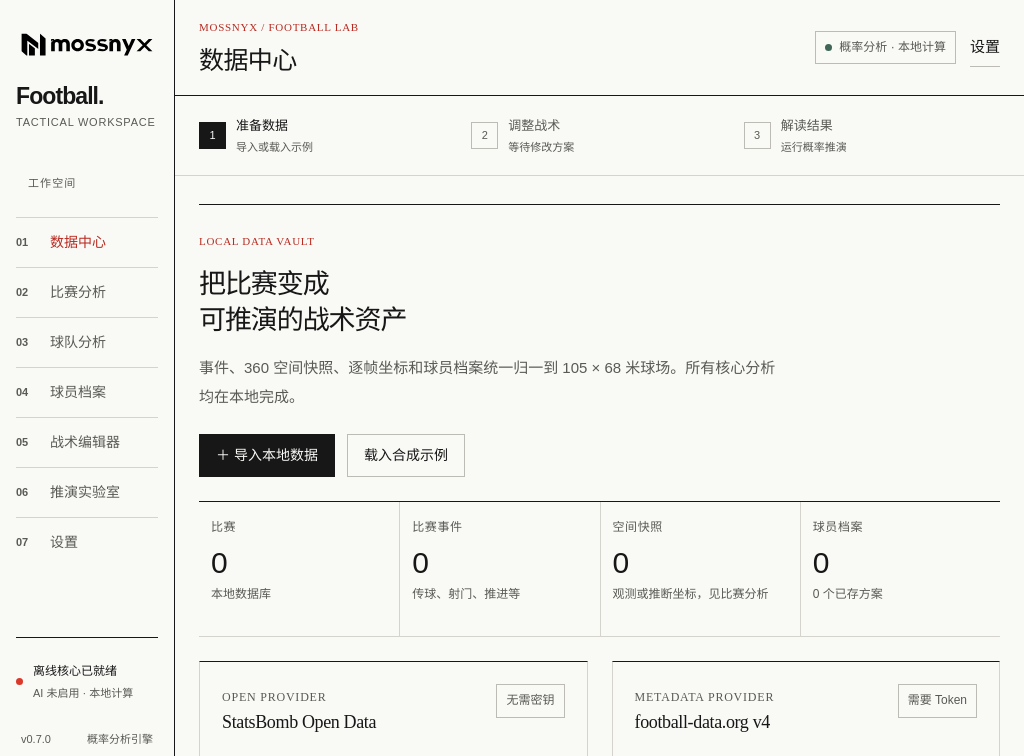
Test: 应用工作流回归 › 方案名称的连续键入在失焦后可一次恢复
Click the button "05 战术编辑器" at (87, 442), box [16,417,158,467]
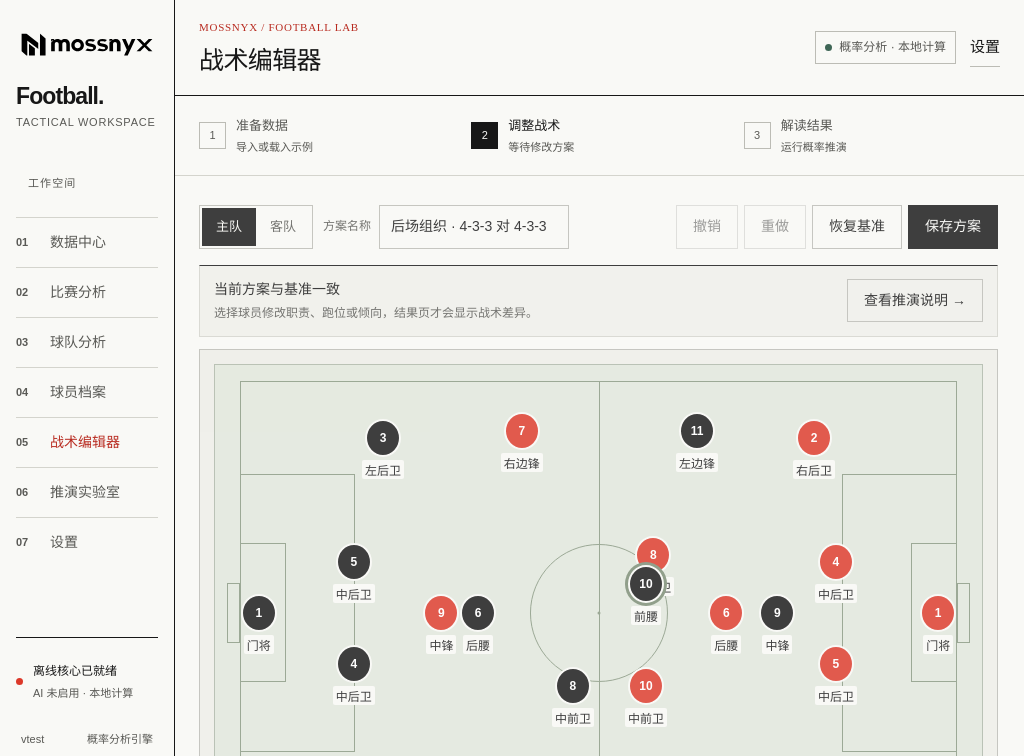
Replace the text in the field labelled "方案名称" with "边路" at (474, 227), box [379,205,569,248]
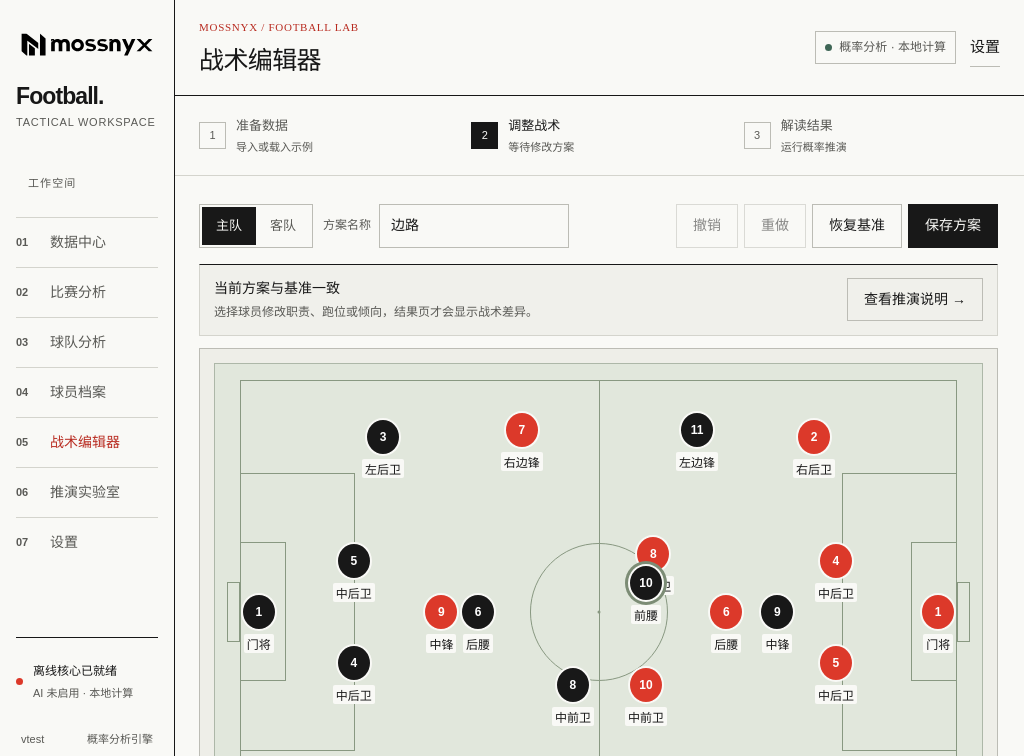
Replace the text in the field labelled "方案名称" with "边路超载试验" at (474, 226), box [379,204,569,248]
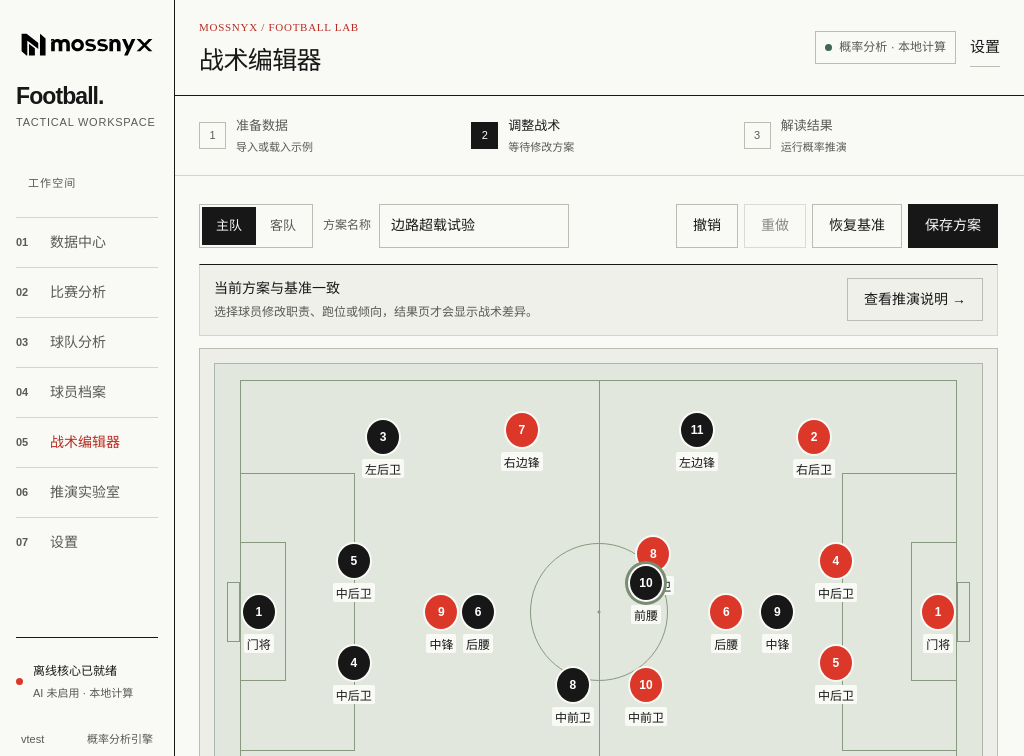
Click the button "撤销" at (707, 226), box [676,204,738,248]
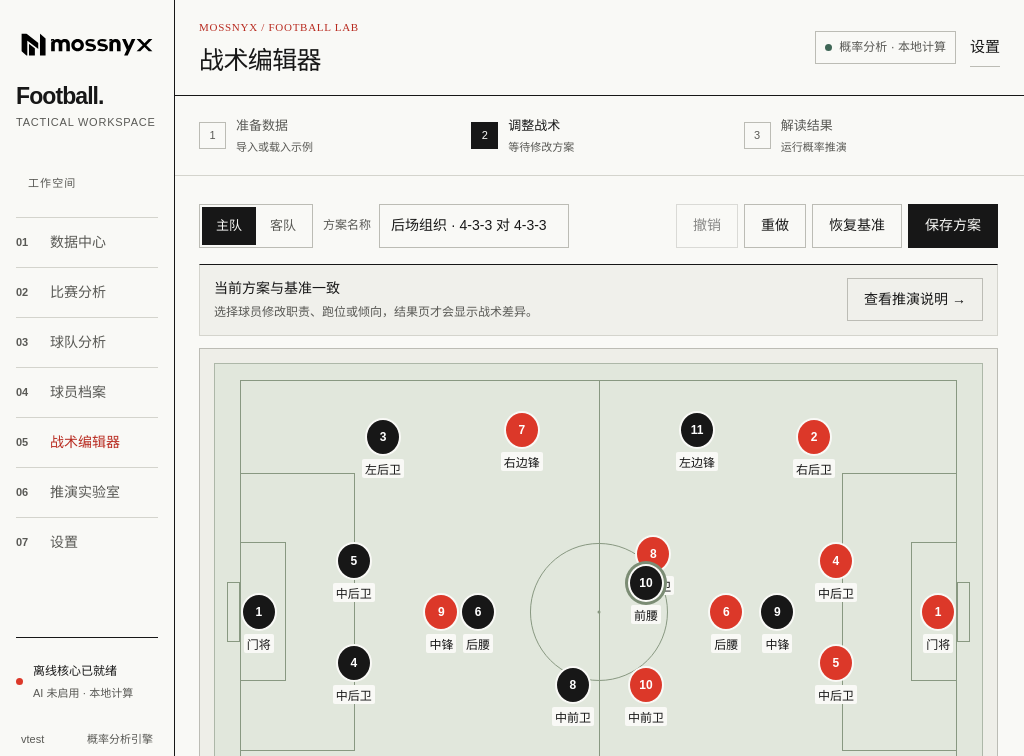
Now the field labelled "方案名称" holds "后场组织 · 4-3-3 对 4-3-3", box [379,204,569,248]
Now the button "撤销" is disabled, box [676,204,738,248]
